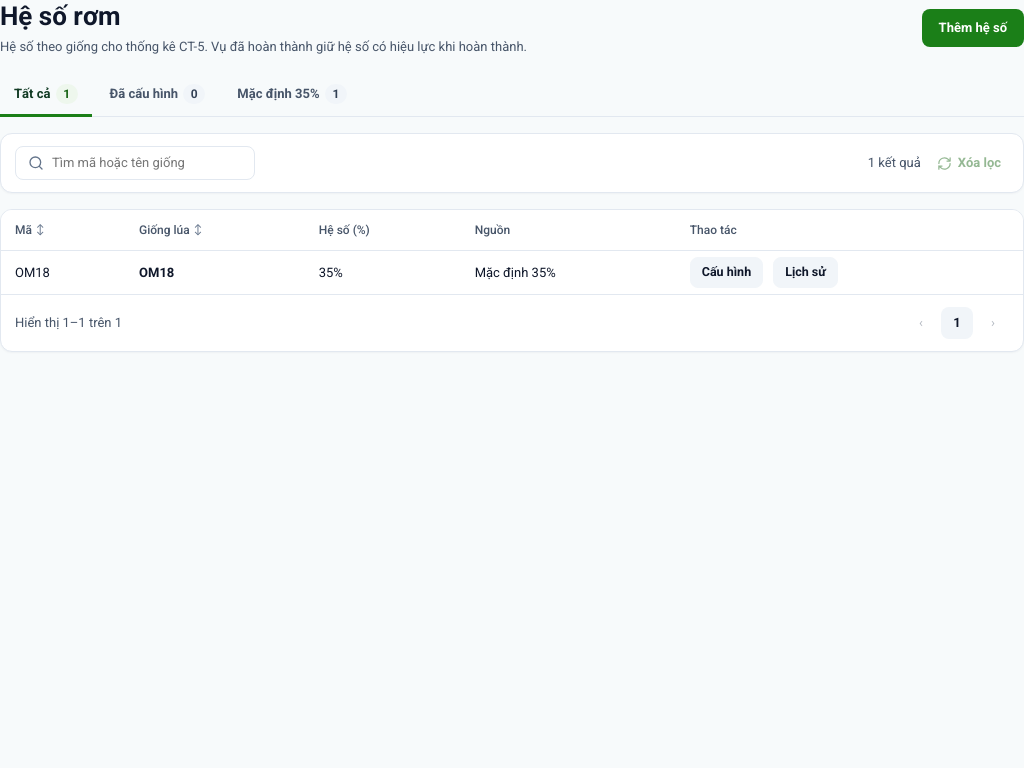
Test: AH-282: hệ số theo giống › mặc định 35%; chặn 120 và gửi decimal string cùng Idempotency-Key
expect the text "35%" is shown: met, box [305,250,461,294]
Click the button "Thêm hệ số".
click(973, 28)  # box [922,9,1023,47]
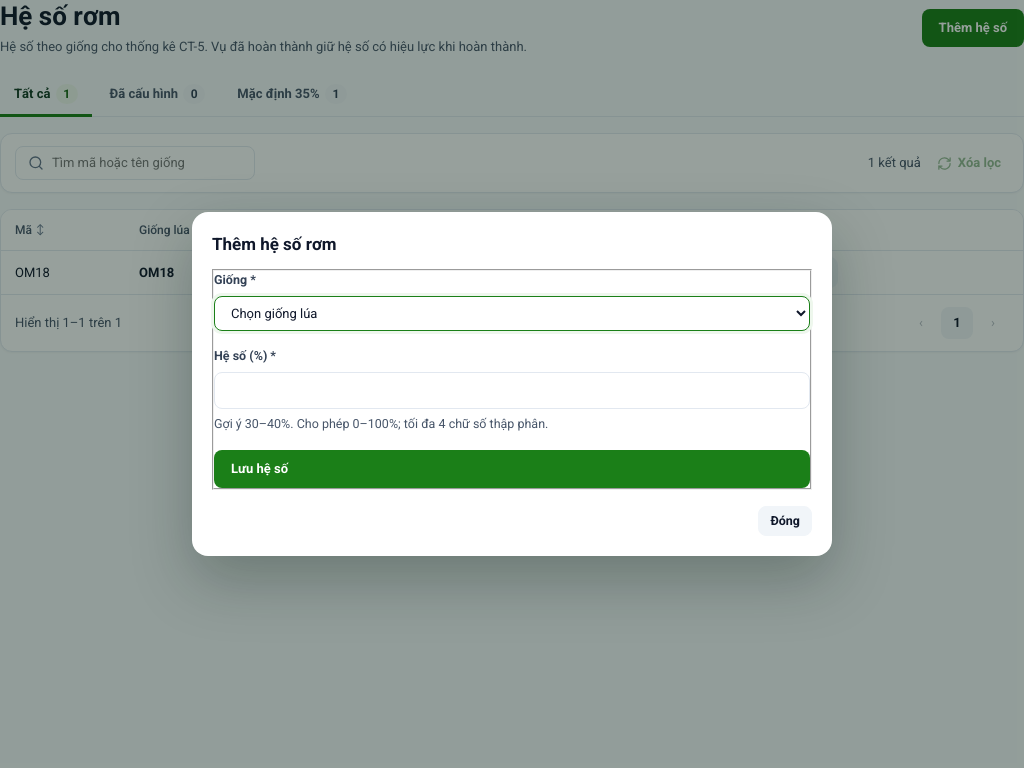
Select "OM18" in the dropdown labelled "Giống *" at (512, 314), box [214,296,810,331]
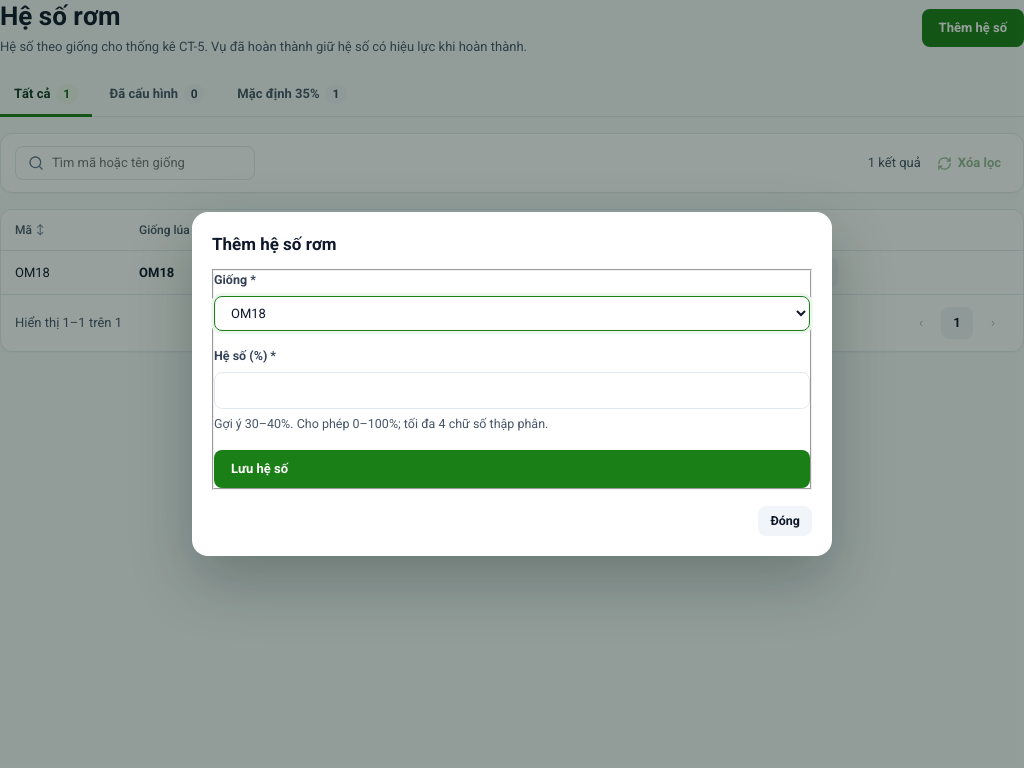
Type "120" into the field labelled "Hệ số (%) *".
click(512, 391); type("120")  # box [214,372,810,409]
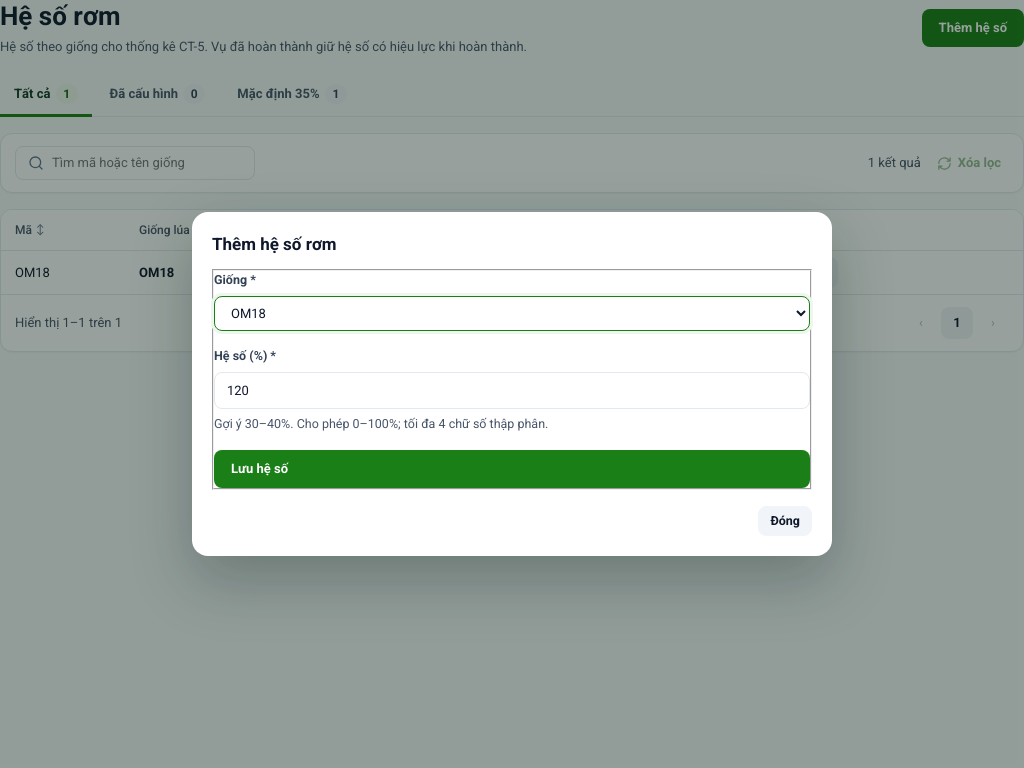
Click the button "Lưu hệ số".
click(259, 468)  # box [214,450,810,488]
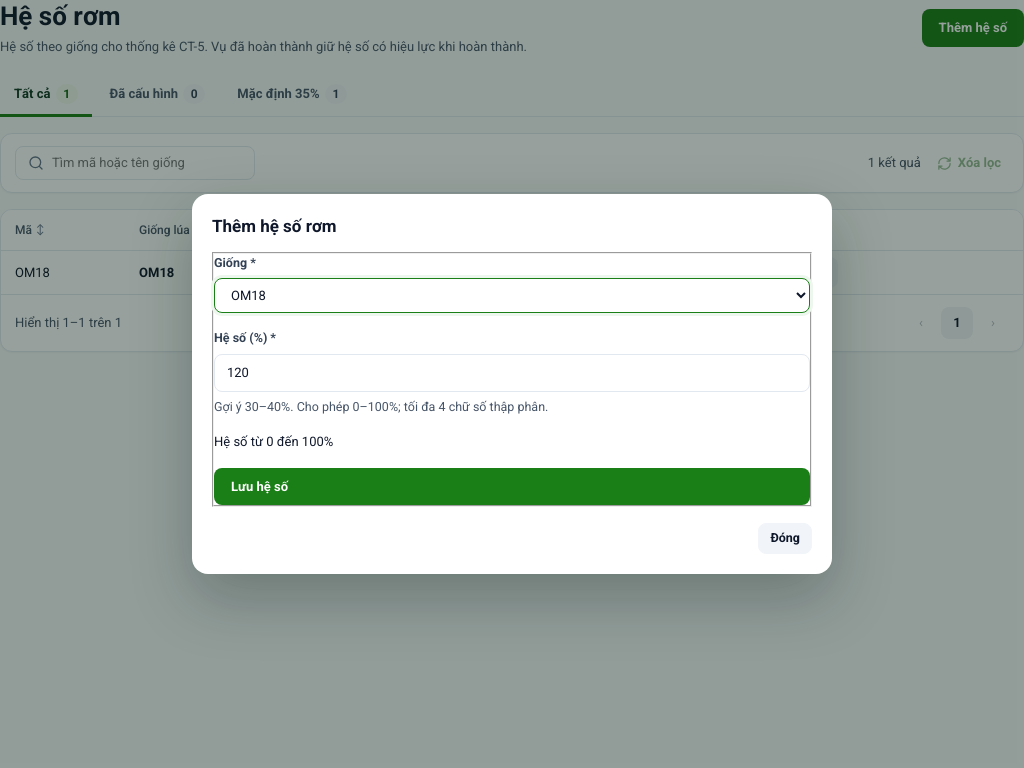
expect the text "Hệ số từ 0 đến 100%" is shown: met, box [214,434,333,449]
Replace the text in the field labelled "Hệ số (%) *" with "35.5555" at (512, 373), box [214,354,810,392]
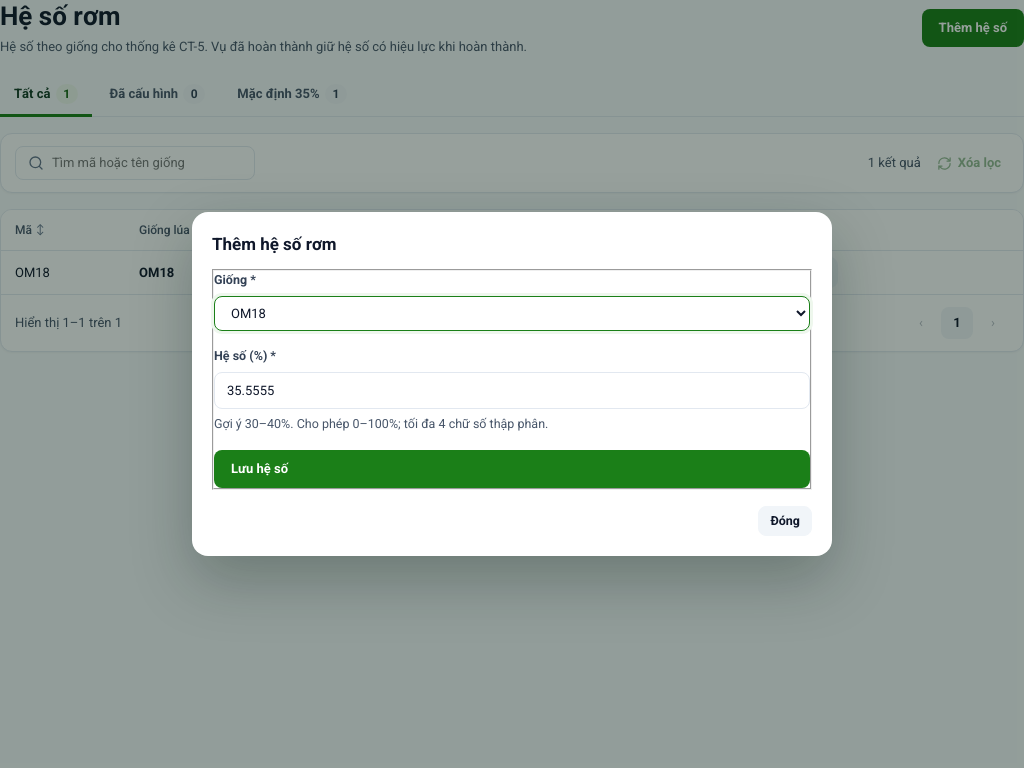
Click the button "Lưu hệ số".
click(259, 468)  # box [214,450,810,488]
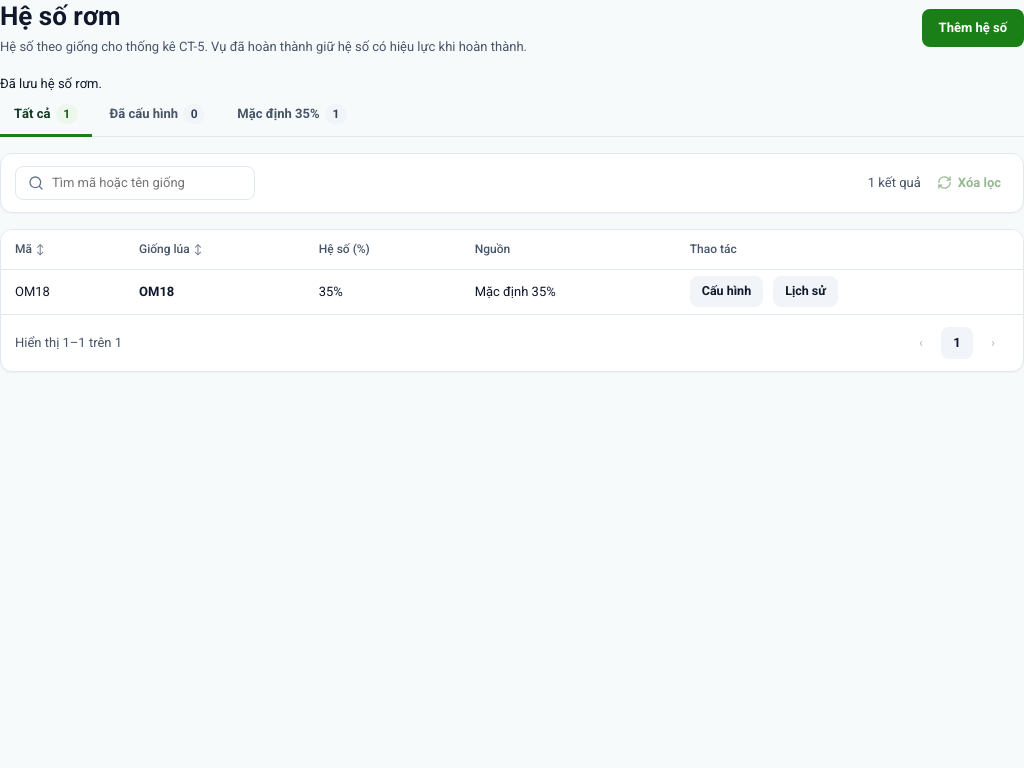
expect the text "Đã lưu hệ số rơm." is shown: met, box [0,76,102,91]
